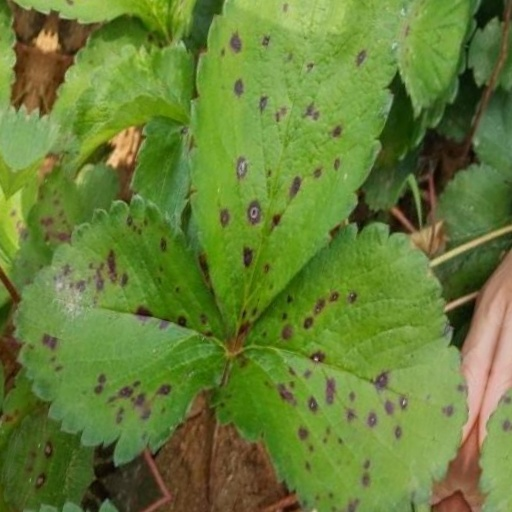Leaf Spot: (9, 190, 267, 509), (160, 0, 362, 353), (256, 226, 477, 495), (403, 203, 511, 354), (395, 54, 493, 191), (391, 0, 511, 77), (331, 144, 399, 250), (108, 0, 171, 87), (420, 423, 475, 511), (356, 460, 450, 511), (348, 0, 400, 76)
